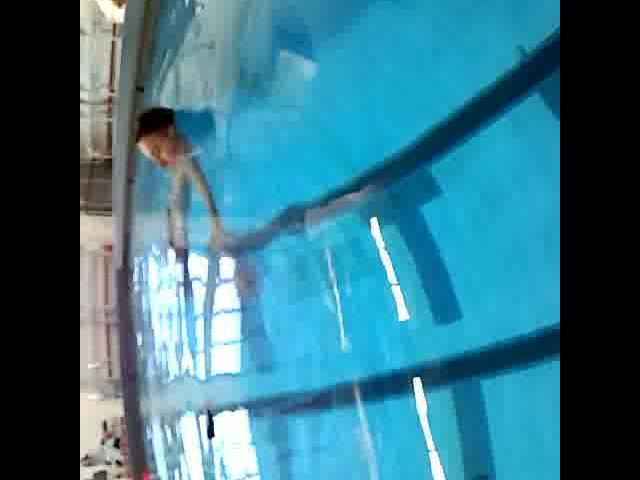CamMount: (198, 406, 223, 441)
